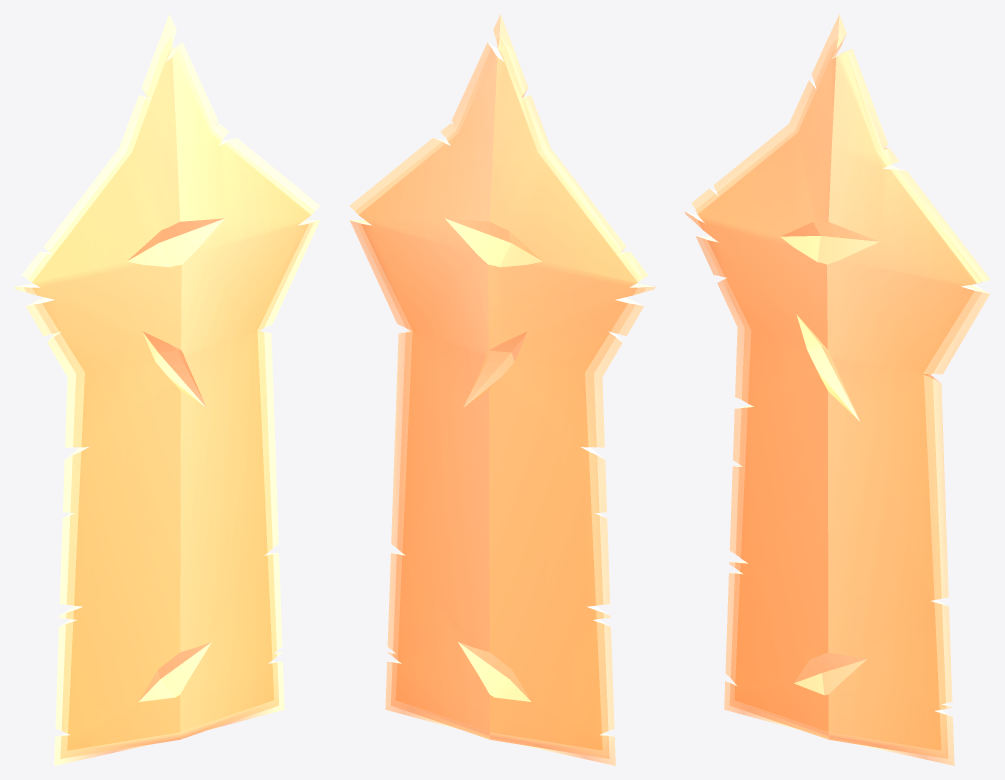
Rendered from wood_blade_scratched_068.glb.
The picture shows the model from 3 angles, left to right: view 1: azimuth 30°, elevation 25°; view 2: azimuth 150°, elevation 25°; view 3: azimuth 330°, elevation 25°; orthographic projection.
Visible parts, largest first — view 1: wood_blade_scratched.068; view 2: wood_blade_scratched.068; view 3: wood_blade_scratched.068.
Part boxes in pixels (x1,y1,x2,y2): wood_blade_scratched.068: (14, 14, 320, 765); wood_blade_scratched.068: (349, 14, 655, 765); wood_blade_scratched.068: (684, 14, 990, 765).
Bounding box in the file's own units: 5.19 × 11.76 × 0.723.
Materials: 1 (1 with a texture image).
